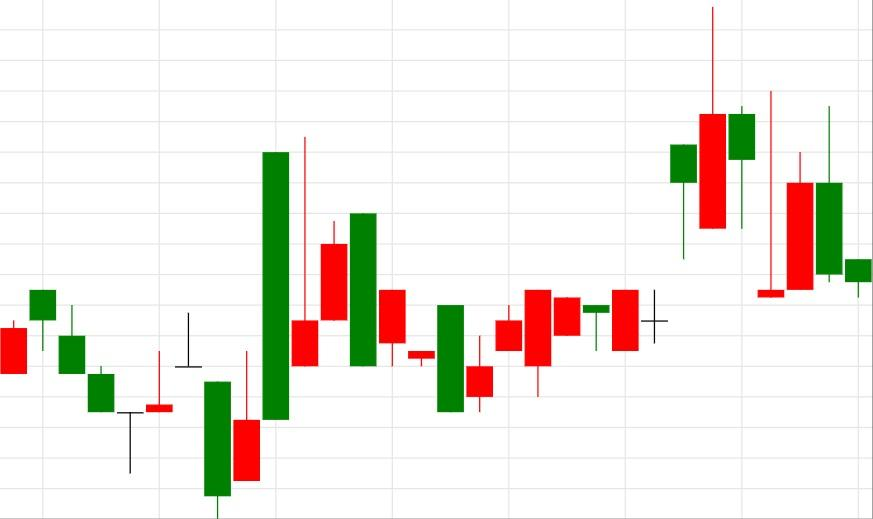bearish_engulfing_fall: (203, 137, 378, 518)
hanging_man_fall: (437, 145, 698, 412)
